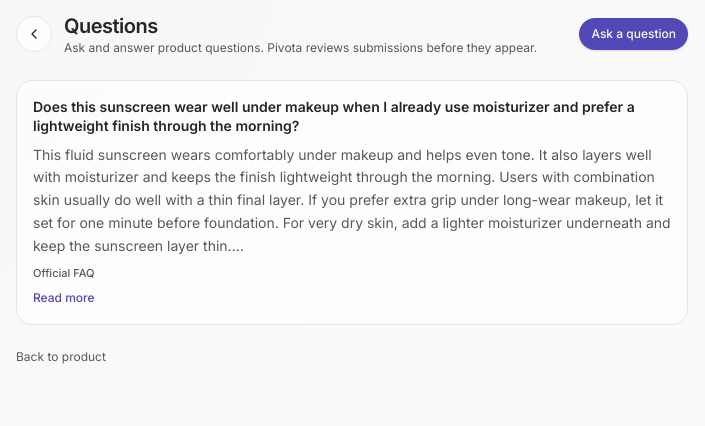
Test: QuestionsListClient › shows sentence-aware excerpts for long official FAQ answers and expands inline
Expected: the text "This fluid sunscreen wears comfortably under makeup and helps even tone" is shown, [33,146,671,254]
Click the button "Read more" at (64, 298), box [33,290,95,306]
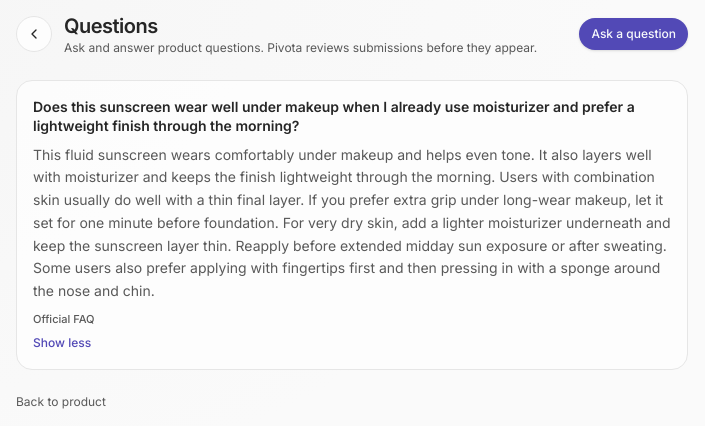
Result: the text "Reapply before extended midday sun exposure or after sweating" is shown at [33,146,671,299]
Result: the button "Show less" is shown at [33,335,91,351]
